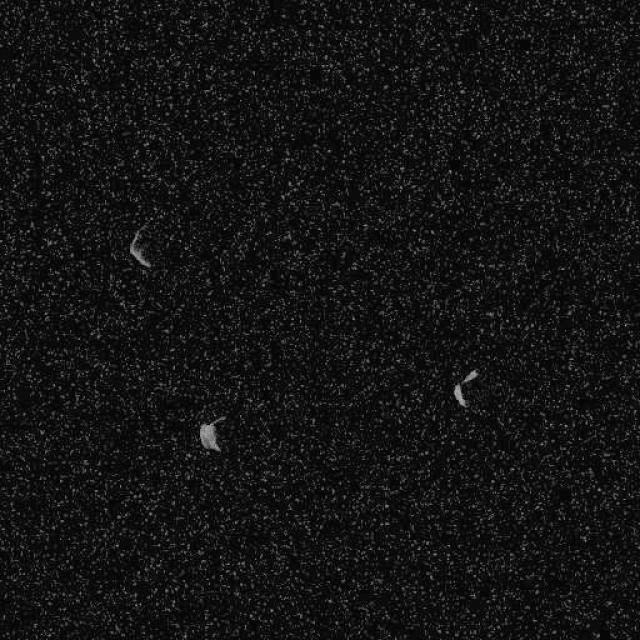D2: (127, 222, 155, 268), (197, 415, 225, 453), (452, 368, 478, 408)
